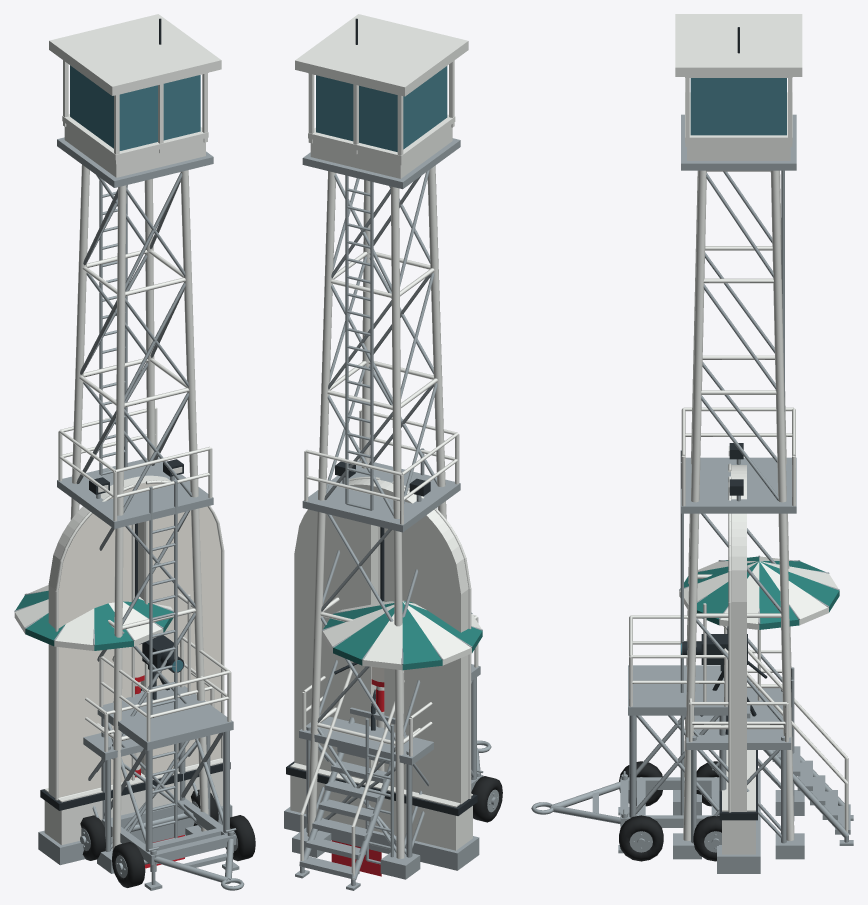
Rendered from course-props.glb.
3 views of the same model, side by side, from view 1: azimuth 30°, elevation 25°; view 2: azimuth 150°, elevation 25°; view 3: azimuth 270°, elevation 25° (orthographic).
Parts seen in each view (by area): view 1: PatrolTower, FinishPost, StarterStand, CameraPlatform; view 2: PatrolTower, FinishPost, CameraPlatform, StarterStand, StarterFlag, FurlongPole; view 3: PatrolTower, StarterStand, CameraPlatform, FinishPost.
Part boxes in pixels (x1,y1,x2,y2): PatrolTower: (49,14,221,873); FinishPost: (38,459,232,865); StarterStand: (80,594,255,890); CameraPlatform: (14,585,214,868); PatrolTower: (292,14,468,879); FinishPost: (284,461,479,870); CameraPlatform: (299,600,482,874); StarterStand: (295,615,502,890); StarterFlag: (331,840,381,876); FurlongPole: (371,667,384,771); PatrolTower: (673,14,804,859); StarterStand: (531,603,853,861); CameraPlatform: (679,555,839,859); FinishPost: (717,443,760,873).
Size of the model in its own units: 3.37 by 14.64 by 5.02.
